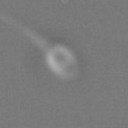normal: (1, 7, 50, 49)
